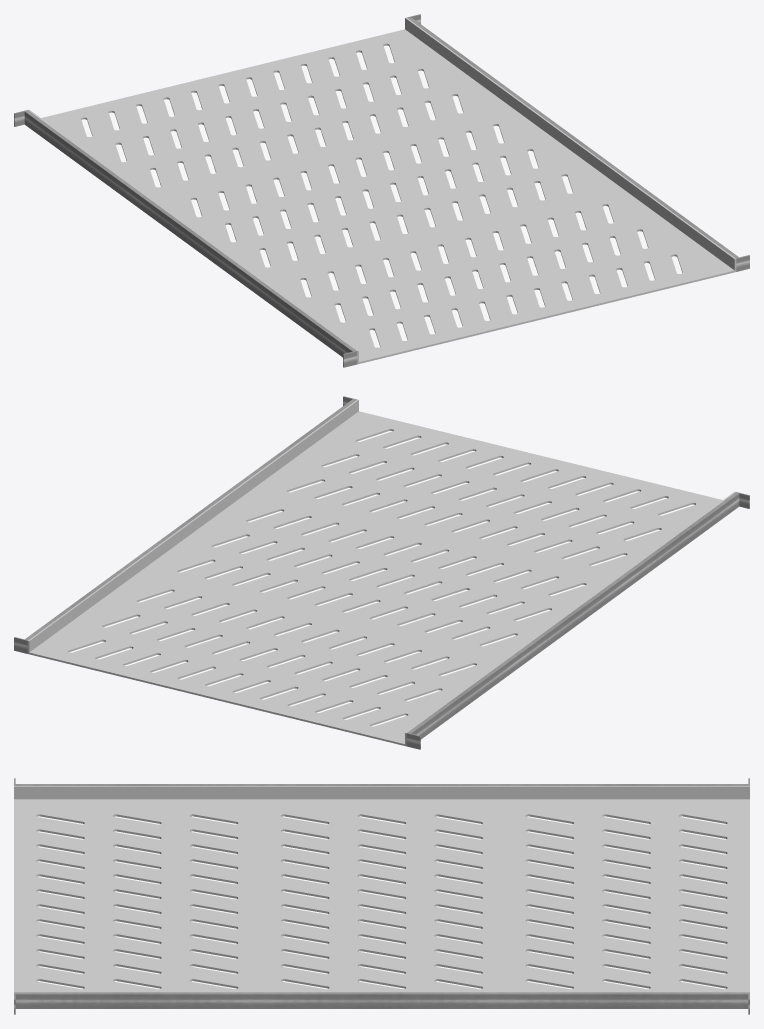
Rendered from SHDG2.fbx.
The picture shows the model from 3 angles, top to bottom: view 1: azimuth 30°, elevation 25°; view 2: azimuth 150°, elevation 25°; view 3: azimuth 270°, elevation 25°; orthographic projection. The views are drawn at different scales.
Parts seen in each view (by area): view 1: SHDG_2; view 2: SHDG_2; view 3: SHDG_2.
Part boxes in pixels (x1,y1,x2,y2): SHDG_2: [14, 14, 749, 367]; SHDG_2: [14, 396, 749, 749]; SHDG_2: [14, 778, 749, 1014].
Size of the model in its own units: 482 by 15 by 677.
Materials: 2 (2 with a texture image).
